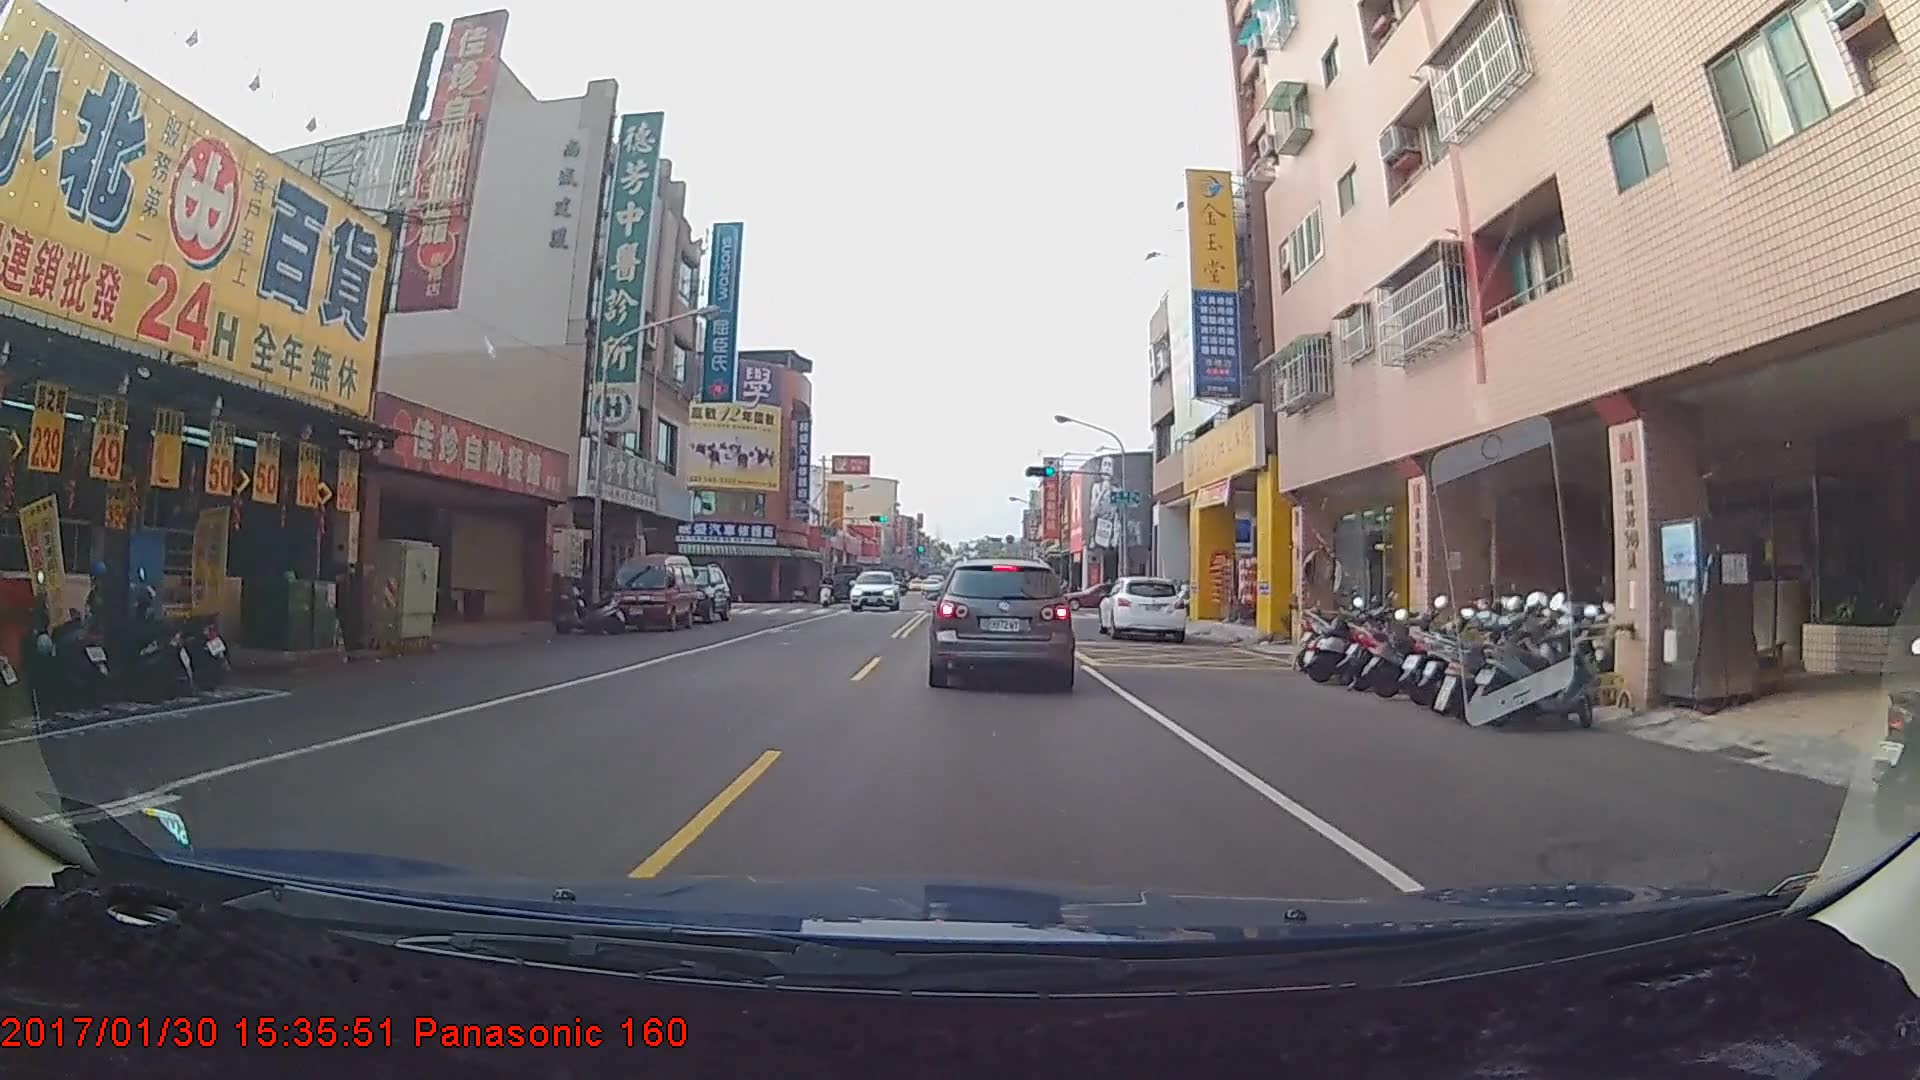rider: (819, 570, 840, 606)
vehicle: (930, 556, 1074, 686), (605, 562, 697, 638), (1096, 573, 1186, 644), (659, 562, 732, 625), (847, 575, 889, 611)
